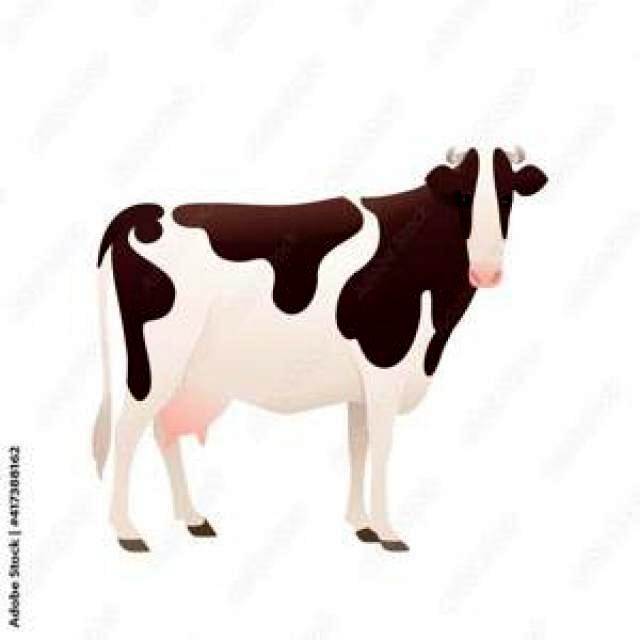COW: (100, 149, 545, 545)
